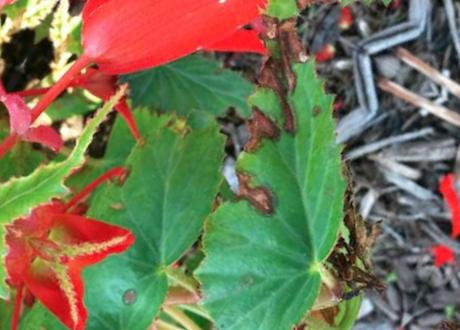Tomato leaf bacterial spot: (128, 20, 436, 330)
